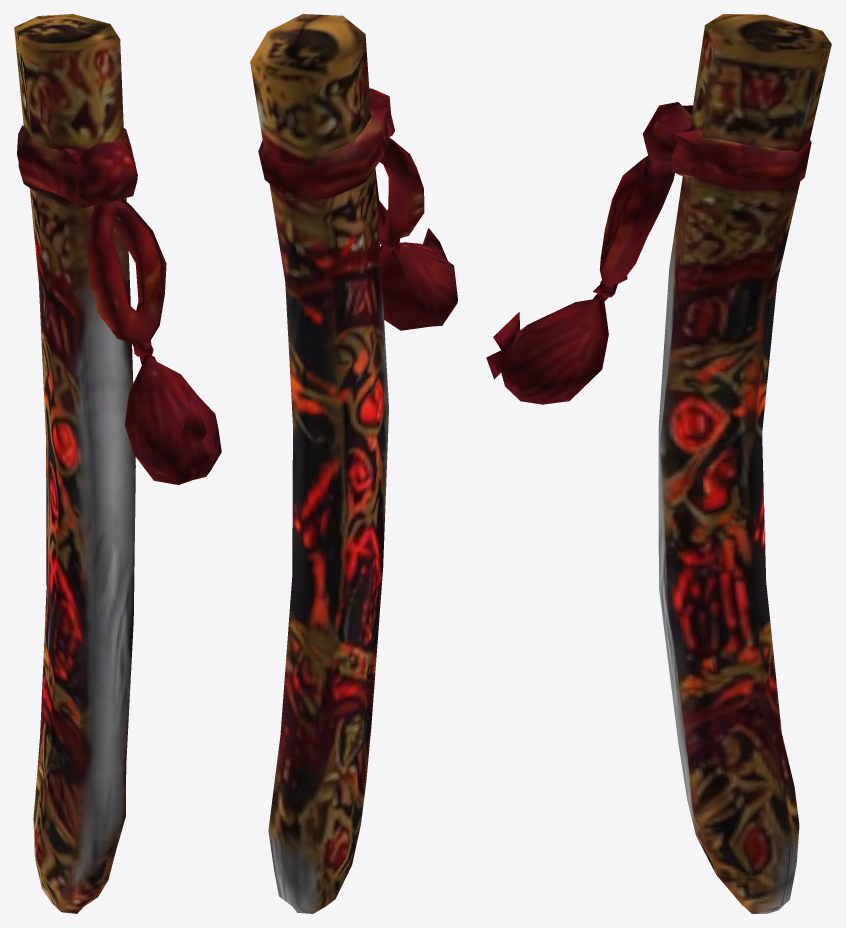
3 views of the same model, side by side, from view 1: azimuth 30°, elevation 25°; view 2: azimuth 150°, elevation 25°; view 3: azimuth 270°, elevation 25° (orthographic).
Parts seen in each view (by area): view 1: LB-09; view 2: LB-09; view 3: LB-09.
Boxes of the visible parts, bbox=[...] form: LB-09: bbox=[14, 14, 221, 913]; LB-09: bbox=[250, 14, 457, 913]; LB-09: bbox=[486, 14, 831, 913].
Bounding box in the file's own units: 0.0759 × 0.62 × 0.2195.
Materials: 1 (1 with a texture image).
